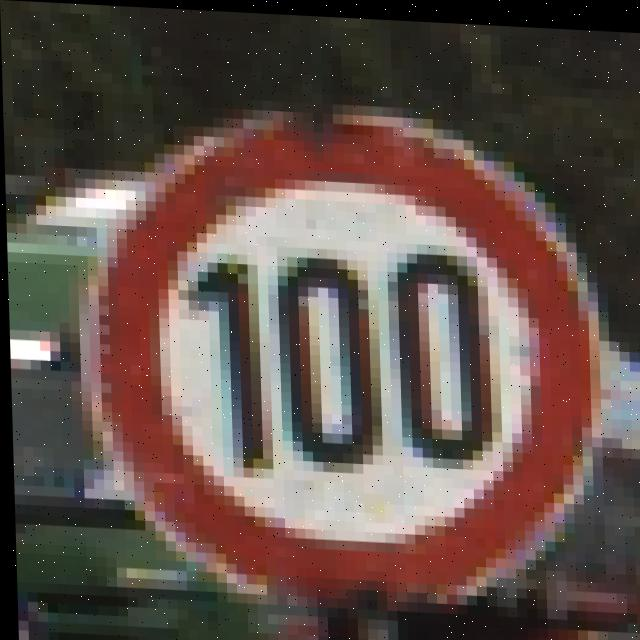speed_limit_100: (114, 123, 597, 598)
